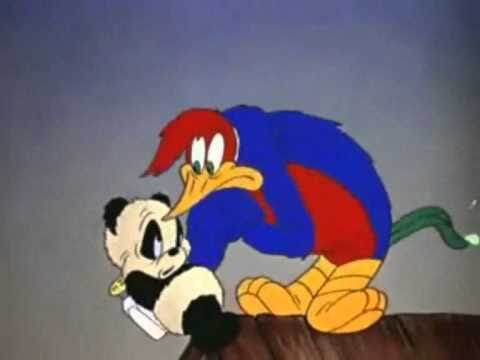picapau: (147, 94, 409, 332)
